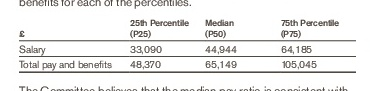table: (0, 0, 370, 91)
